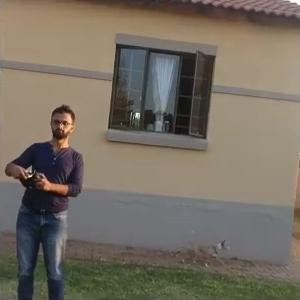follow: (0, 99, 88, 298)
null: (185, 224, 238, 268)
